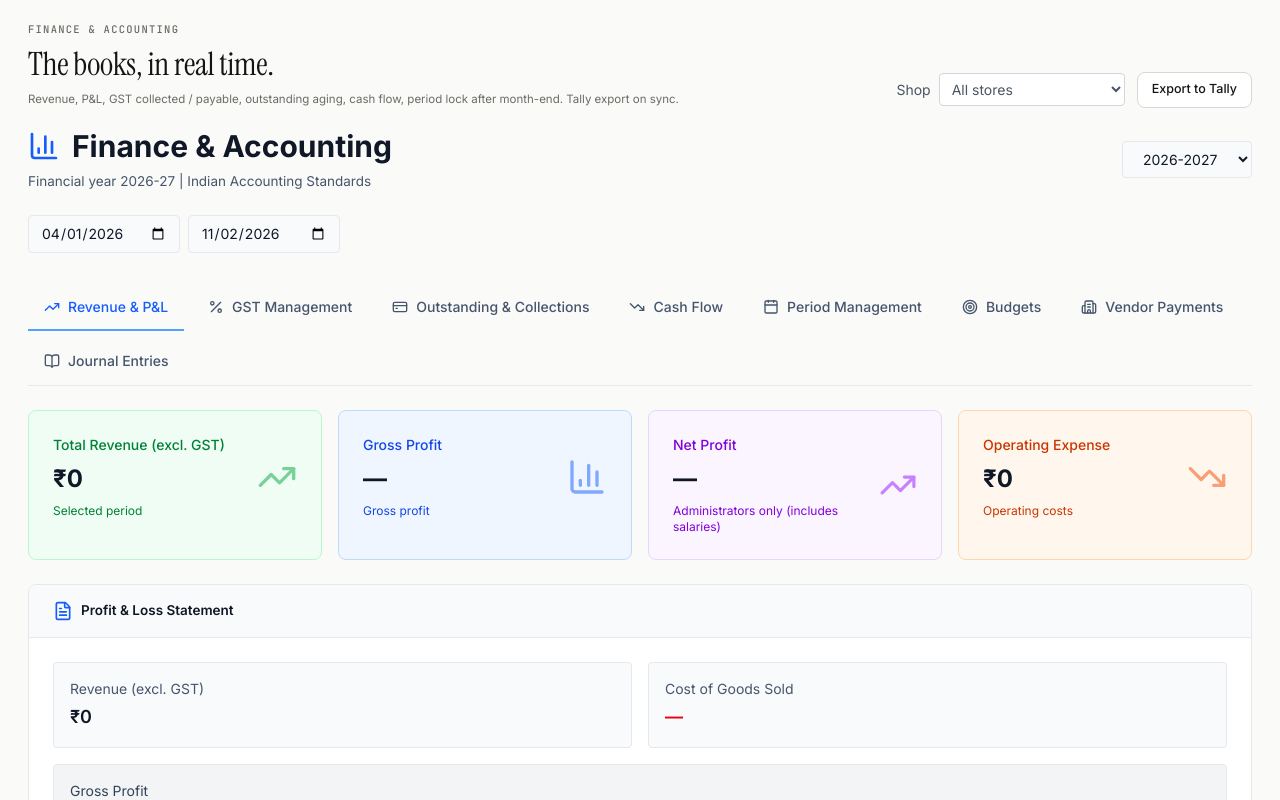
Test: Finance dashboard - supplier figures follow the dashboard shop › ADMIN: every shop by default, never his topbar shop, and says so
What coordinates should you click on to do the following:
click the button "Outstanding & Collections"
I would click on:
 (491, 308)
Its box is [376,285,606,331].
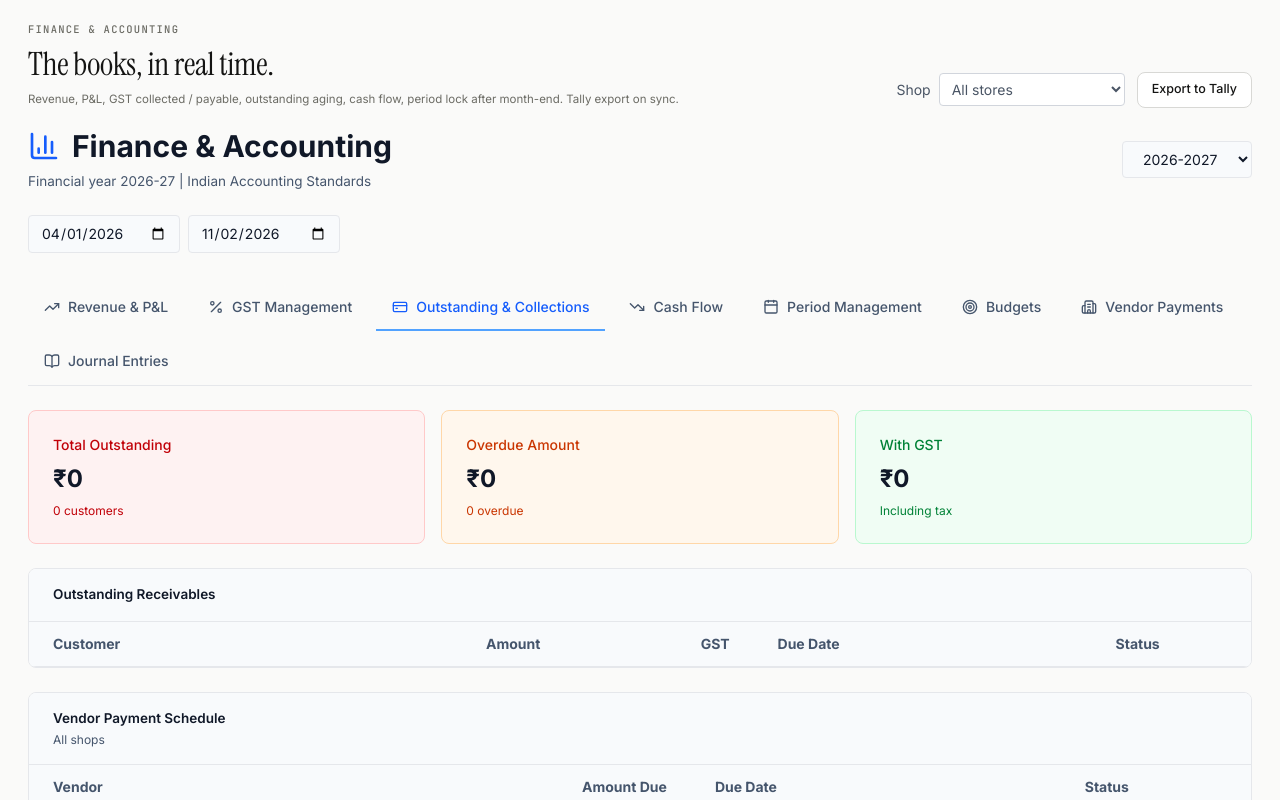
Expected: the dropdown named "Purchase shop" shows "All stores", [939,73,1125,106]
Expected: the text "All shops" is shown, [53,732,105,747]
